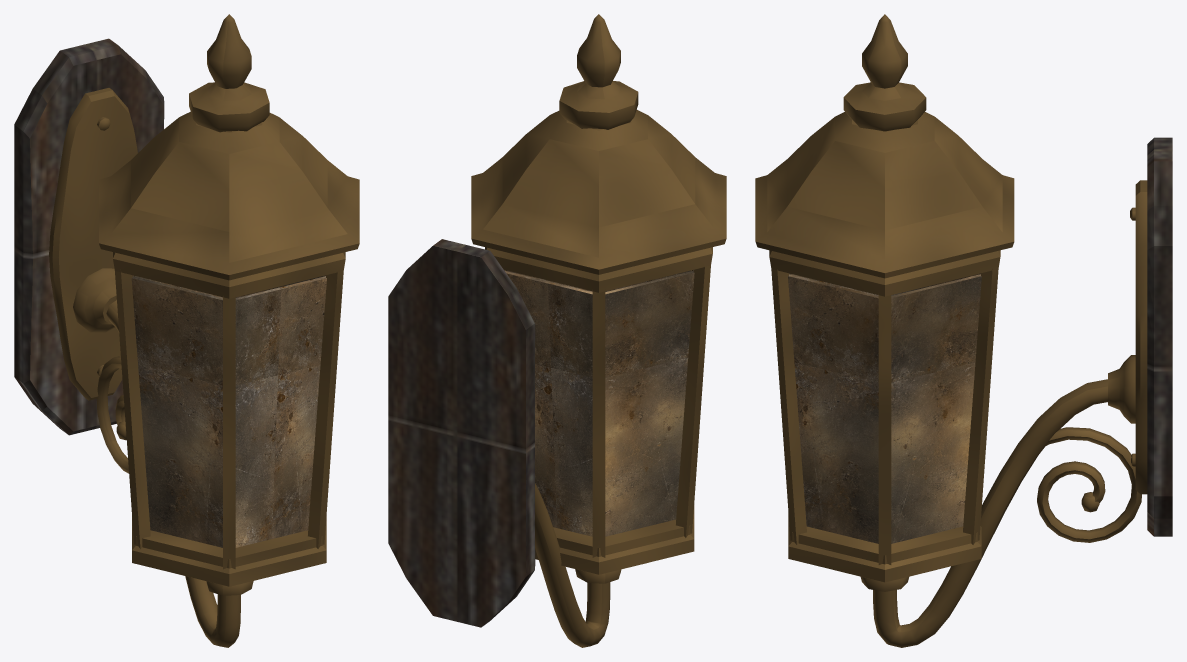
File: WallLantern.fbx
3 renders of one model, left to right at view 1: azimuth 30°, elevation 25°; view 2: azimuth 150°, elevation 25°; view 3: azimuth 270°, elevation 25°, orthographic. The views are drawn at different scales.
Visible parts, largest first — view 1: SM_WallLantern.001; view 2: SM_WallLantern.001; view 3: SM_WallLantern.001.
Boxes of the visible parts, x1,y1,x2,y2 form: SM_WallLantern.001: (14, 14, 359, 647); SM_WallLantern.001: (388, 14, 726, 647); SM_WallLantern.001: (755, 14, 1172, 647).
Size of the model in its own units: 26 by 60.77 by 36.26.
Materials: 3 (3 with a texture image).
